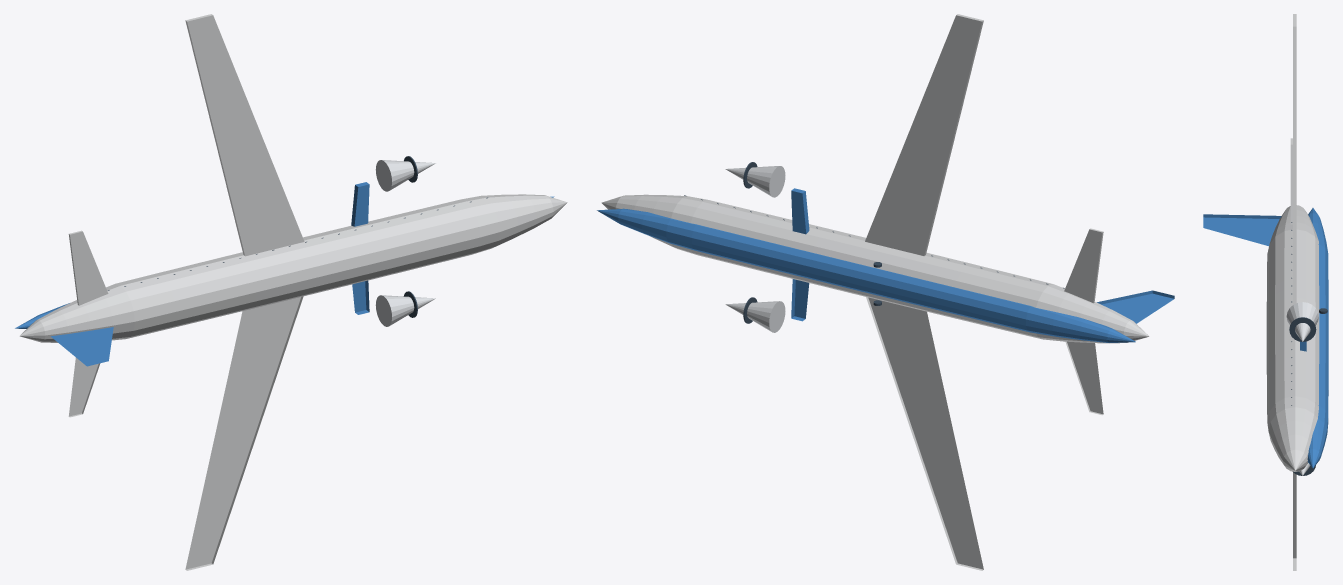
File: boeing_787-9_tracker.glb
3 renders of one model, left to right at view 1: azimuth 30°, elevation 25°; view 2: azimuth 150°, elevation 25°; view 3: azimuth 270°, elevation 25°, orthographic.
Parts seen in each view (by area): view 1: 787-9_part_0, 787-9_part_2, 787-9_part_4, 787-9_part_7, 787-9_part_8, 787-9_part_6, 787-9_part_9, 787-9_part_12, 787-9_part_5; view 2: 787-9_part_0, 787-9_part_1, 787-9_part_4, 787-9_part_2, 787-9_part_7, 787-9_part_6, 787-9_part_8, 787-9_part_12, 787-9_part_9, 787-9_part_5; view 3: 787-9_part_0, 787-9_part_1, 787-9_part_8, 787-9_part_4, 787-9_part_12, 787-9_part_2, 787-9_part_13, 787-9_part_7.
Boxes of the visible parts, x1=… form: 787-9_part_0: x1=19, y1=194, x2=567, y2=342; 787-9_part_2: x1=185, y1=296, x2=303, y2=570; 787-9_part_4: x1=185, y1=14, x2=304, y2=256; 787-9_part_7: x1=68, y1=230, x2=108, y2=305; 787-9_part_8: x1=51, y1=327, x2=113, y2=366; 787-9_part_6: x1=68, y1=357, x2=100, y2=417; 787-9_part_9: x1=375, y1=295, x2=435, y2=326; 787-9_part_12: x1=375, y1=160, x2=435, y2=191; 787-9_part_5: x1=351, y1=182, x2=369, y2=226; 787-9_part_0: x1=601, y1=194, x2=1149, y2=343; 787-9_part_1: x1=597, y1=208, x2=1135, y2=342; 787-9_part_4: x1=865, y1=14, x2=983, y2=255; 787-9_part_2: x1=866, y1=297, x2=983, y2=570; 787-9_part_7: x1=1064, y1=228, x2=1103, y2=303; 787-9_part_6: x1=1065, y1=341, x2=1103, y2=415; 787-9_part_8: x1=1097, y1=290, x2=1174, y2=323; 787-9_part_12: x1=725, y1=166, x2=785, y2=197; 787-9_part_9: x1=725, y1=301, x2=785, y2=332; 787-9_part_5: x1=791, y1=188, x2=809, y2=234; 787-9_part_0: x1=1266, y1=205, x2=1319, y2=471; 787-9_part_1: x1=1307, y1=208, x2=1328, y2=468; 787-9_part_8: x1=1203, y1=214, x2=1281, y2=246; 787-9_part_4: x1=1293, y1=14, x2=1296, y2=304; 787-9_part_12: x1=1286, y1=302, x2=1318, y2=341; 787-9_part_2: x1=1293, y1=472, x2=1296, y2=570; 787-9_part_13: x1=1289, y1=317, x2=1316, y2=341; 787-9_part_7: x1=1290, y1=138, x2=1292, y2=224.
Size of the model in its own units: 62.8 by 60.1 by 12.53.
